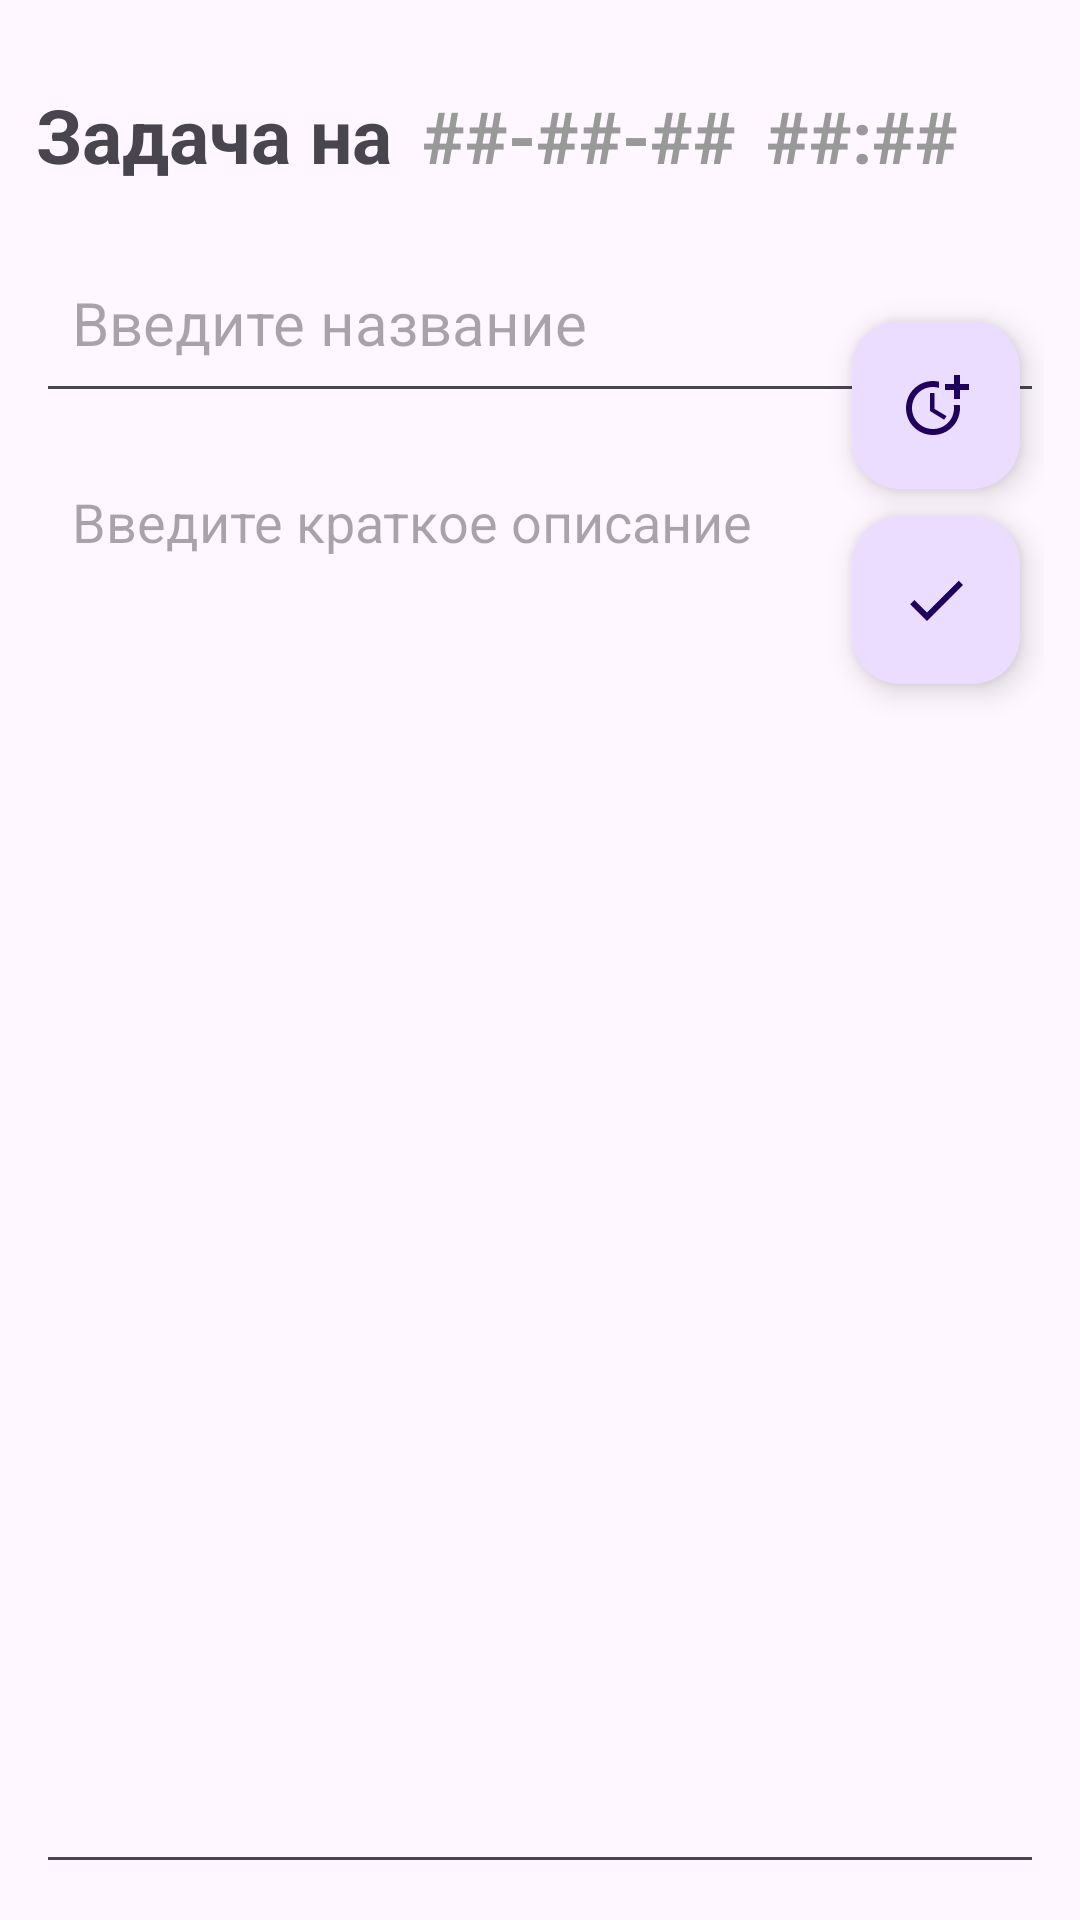

Where to tap for icons on this 1080w x 1920h app screen, as (x=x, y=y):
add time: (x=936, y=405)
done: (x=936, y=600)
